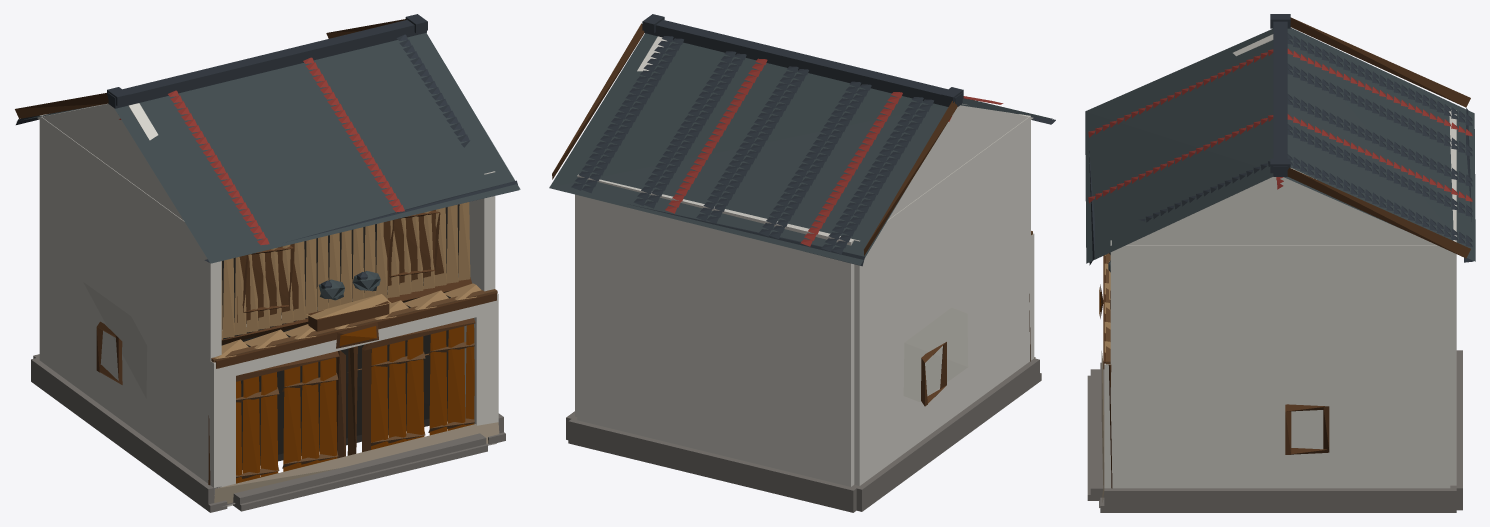
Rendered from lib_lib_house_b2.vc2.glb.
The picture shows the model from 3 angles, left to right: view 1: azimuth 30°, elevation 25°; view 2: azimuth 150°, elevation 25°; view 3: azimuth 270°, elevation 25°; orthographic projection.
Parts seen in each view (by area): view 1: lib_lib_house_b2; view 2: lib_lib_house_b2; view 3: lib_lib_house_b2.
Part boxes in pixels (bbox=[...]): lib_lib_house_b2: bbox=[15, 14, 520, 512]; lib_lib_house_b2: bbox=[549, 14, 1055, 512]; lib_lib_house_b2: bbox=[1085, 14, 1475, 512].
Bounding box in the file's own units: 7.38 × 7.98 × 8.02.
